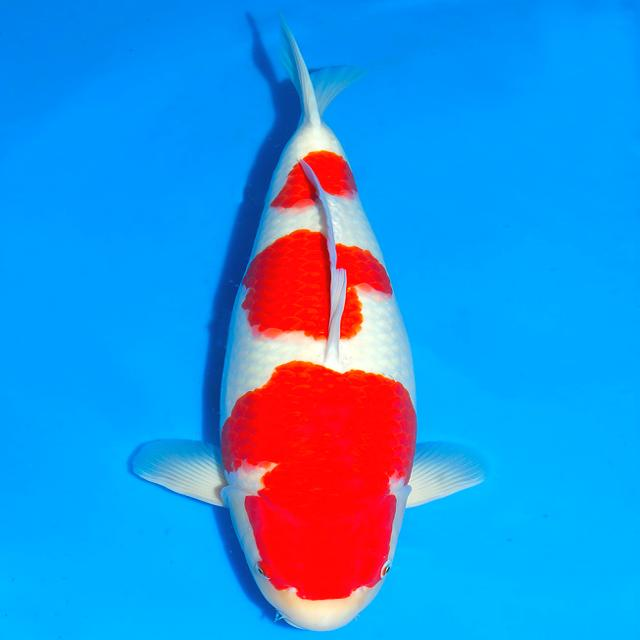Kohaku: (130, 11, 486, 632)
